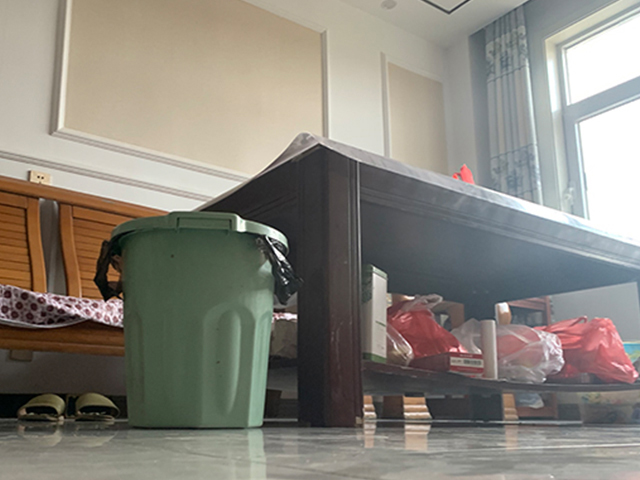slippers: (69, 391, 120, 424), (17, 394, 68, 427)
stool: (1, 175, 168, 361)
table: (191, 130, 640, 429)
trashcan: (105, 210, 288, 429)
